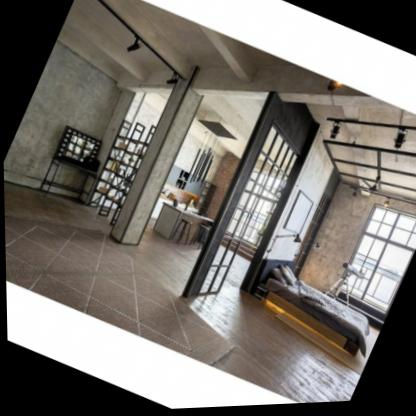Window: (337, 210, 416, 326)
